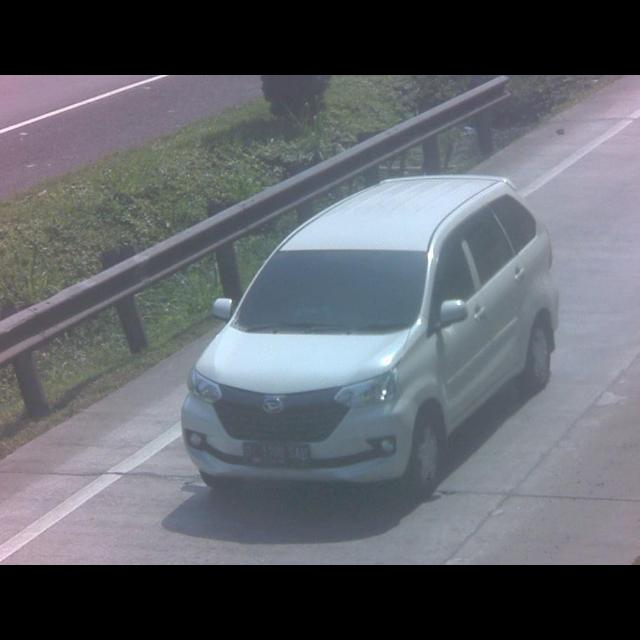plate: (239, 436, 313, 468)
